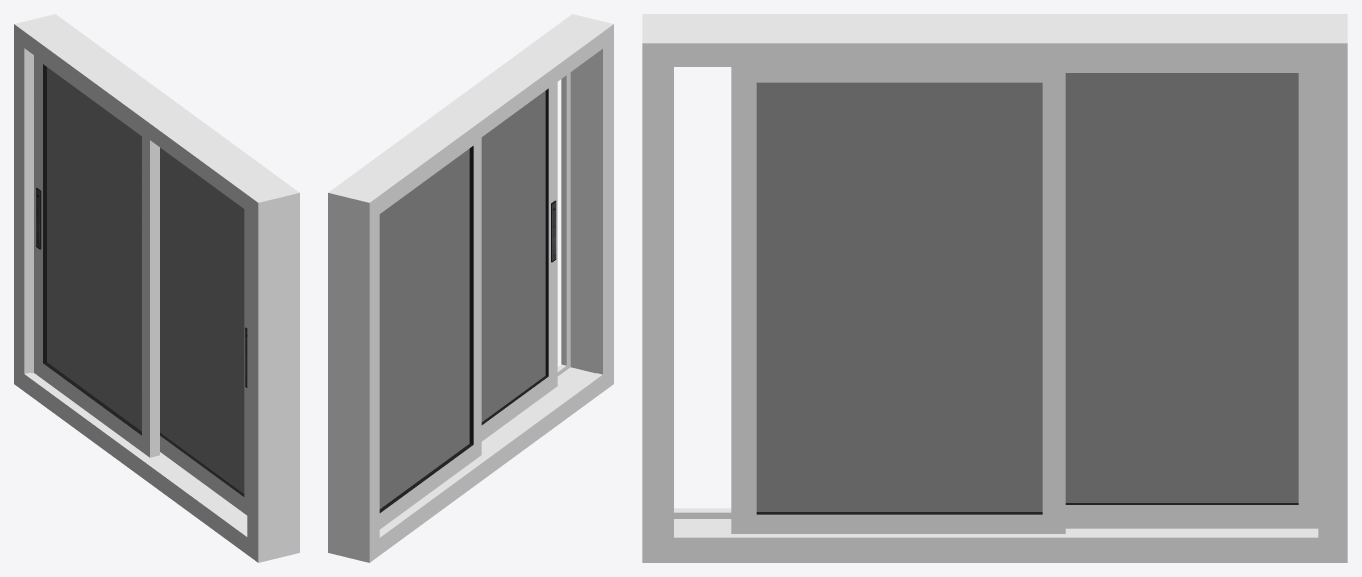
The model's file is Window.FBX.
3 views of the same model, side by side, from view 1: azimuth 30°, elevation 25°; view 2: azimuth 150°, elevation 25°; view 3: azimuth 270°, elevation 25° (orthographic). The views are drawn at different scales.
Parts seen in each view (by area): view 1: window frame, window A, window B; view 2: window frame, window A, window B; view 3: window B, window A, window frame.
Boxes of the visible parts, x1,y1,x2,y2 form: window frame: (14, 14, 299, 562); window A: (34, 55, 159, 457); window B: (160, 147, 247, 515); window frame: (328, 14, 613, 562); window A: (379, 137, 481, 529); window B: (481, 82, 557, 441); window B: (731, 67, 1065, 533); window A: (1065, 67, 1318, 528); window frame: (642, 14, 1347, 562).
Size of the model in its own units: 18.04 by 150 by 184.
2 materials, 1 textured.
